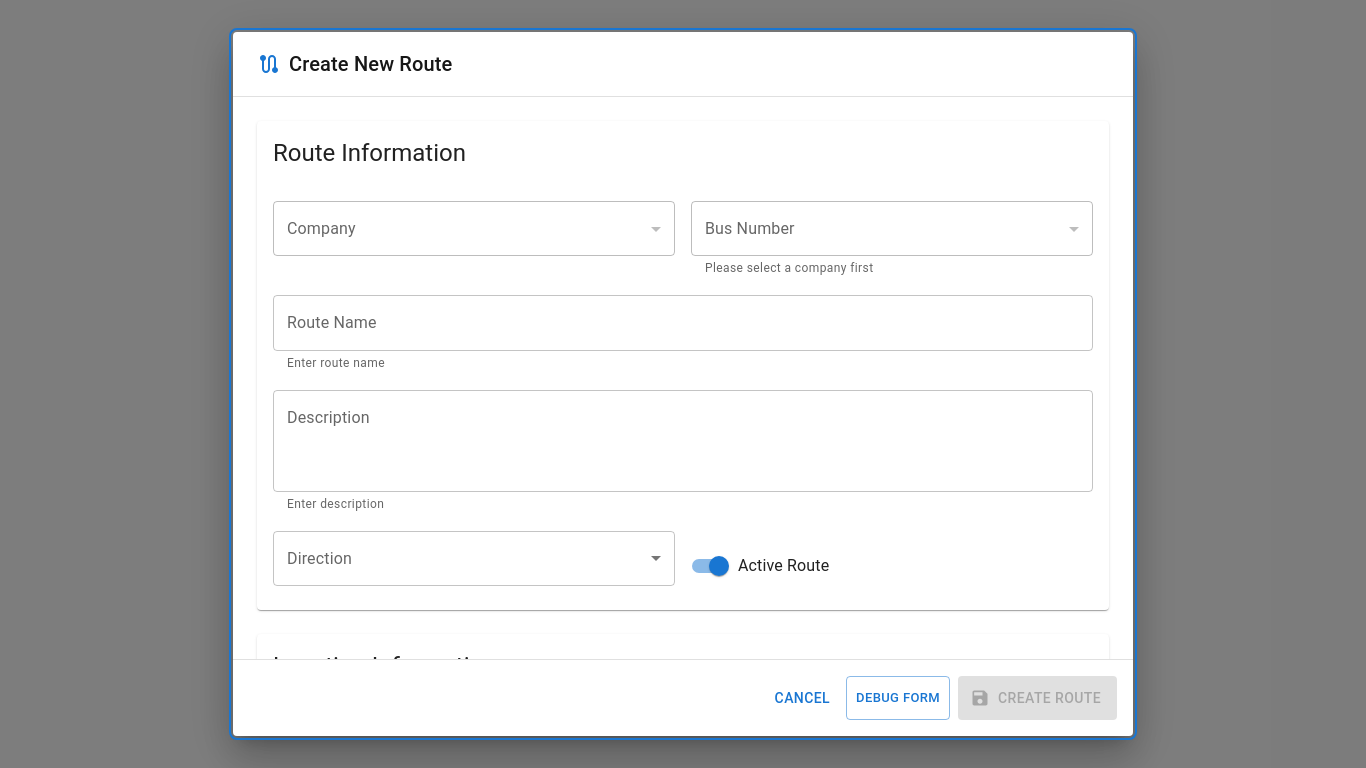
Scenario: RouteForm Component › validates field length constraints
Enter too short route name
In the field labelled "Route Name": (683, 323) [273, 295, 1093, 351], type "A"
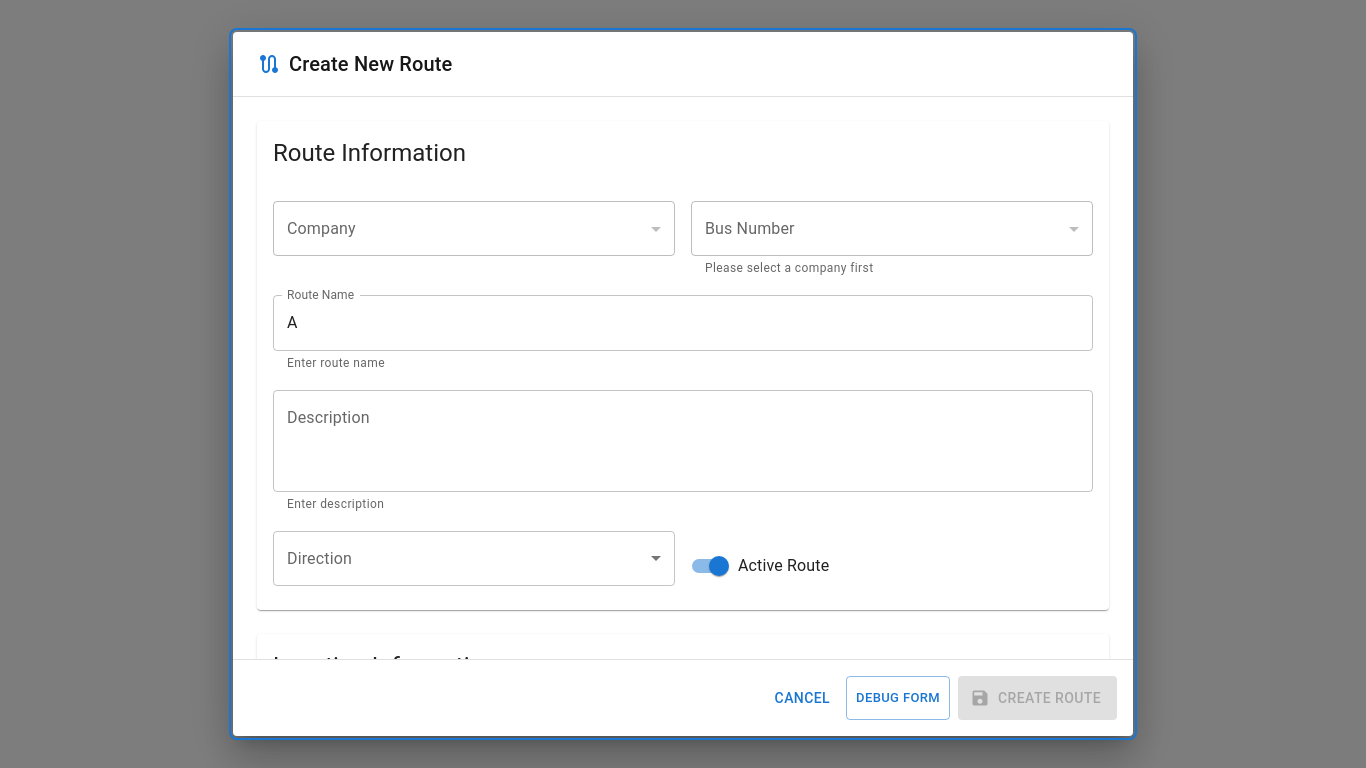
Leave the field labelled "Route Name", box [273, 295, 1093, 351]
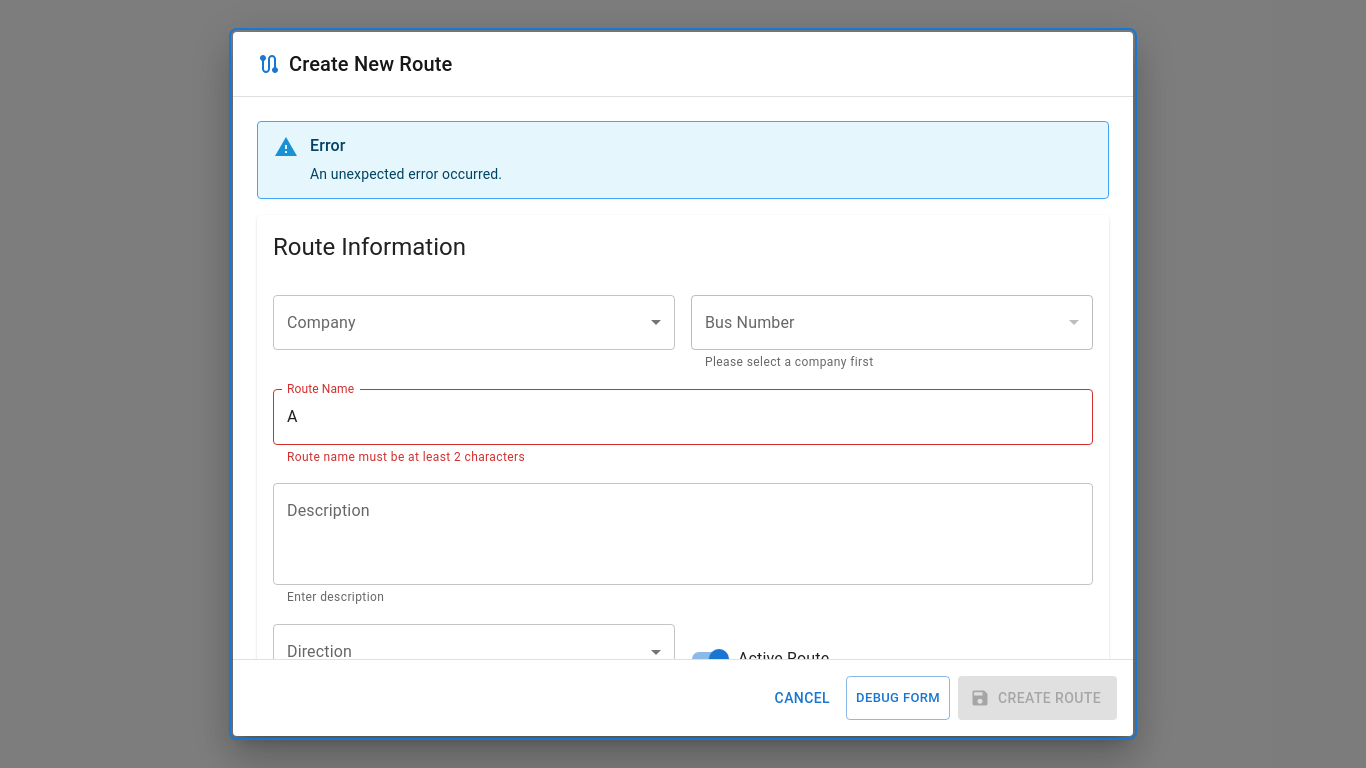
Expected: the text "Route name must be at least 2 characters" is shown, [287, 450, 525, 464]
Enter valid route name
Replace the text in the field labelled "Route Name" with "Valid Route": (683, 416) [273, 388, 1093, 444]
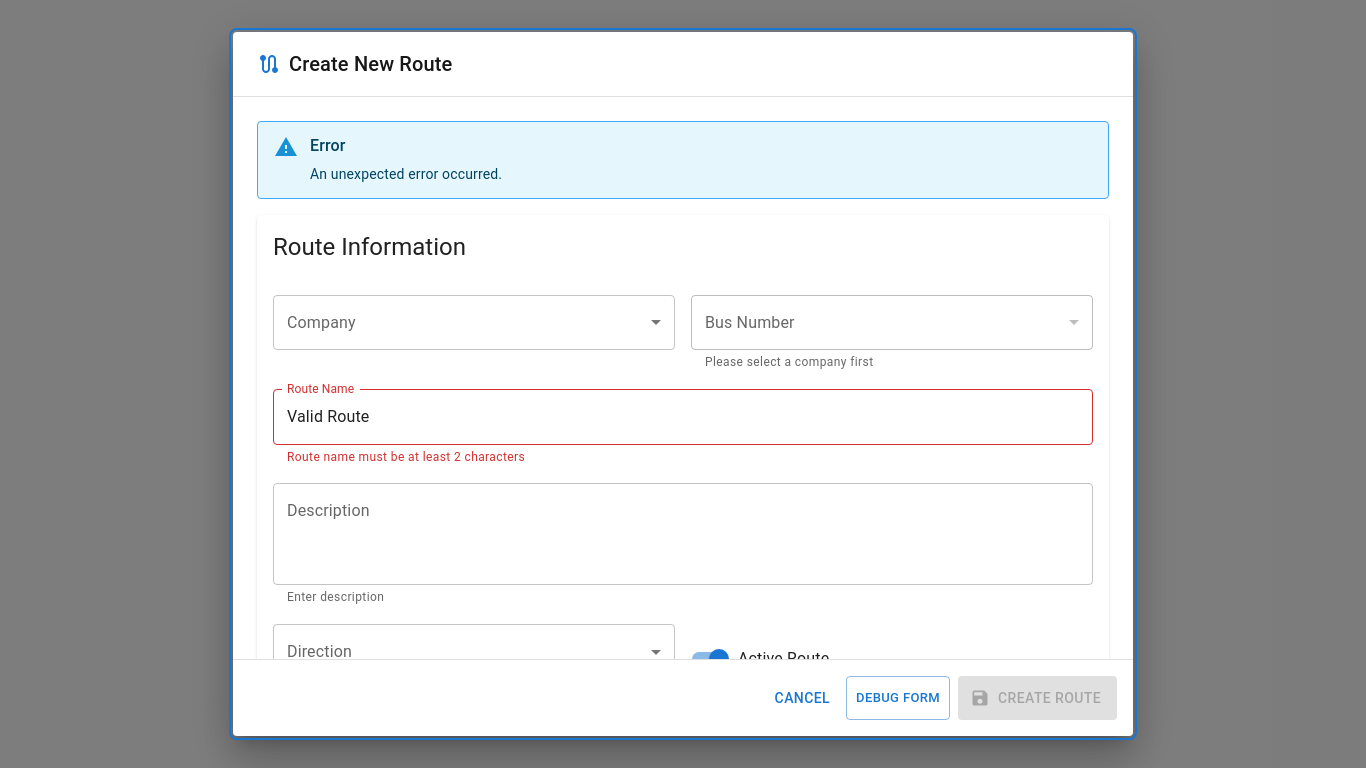
Leave the field labelled "Route Name", box [273, 388, 1093, 444]
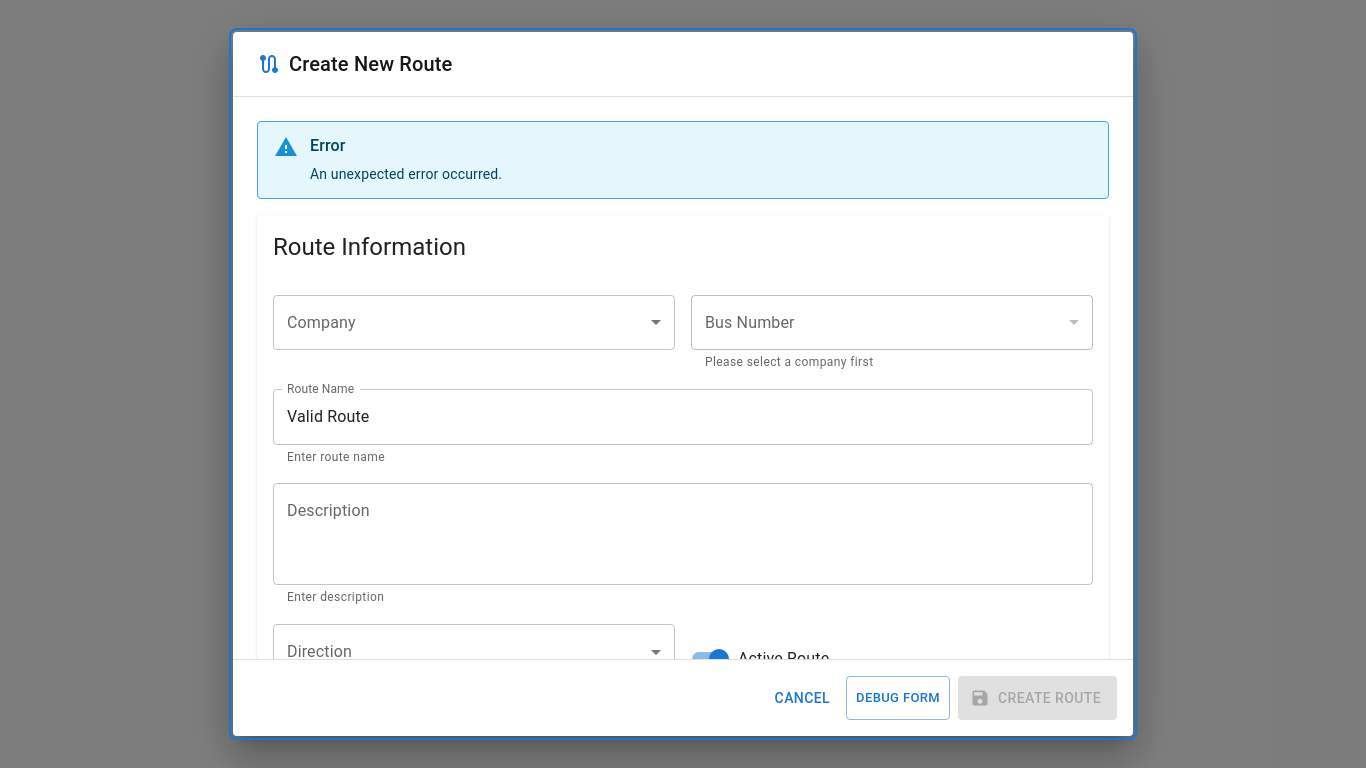
Expected: the text "Route name must be at least 2 characters" is gone
